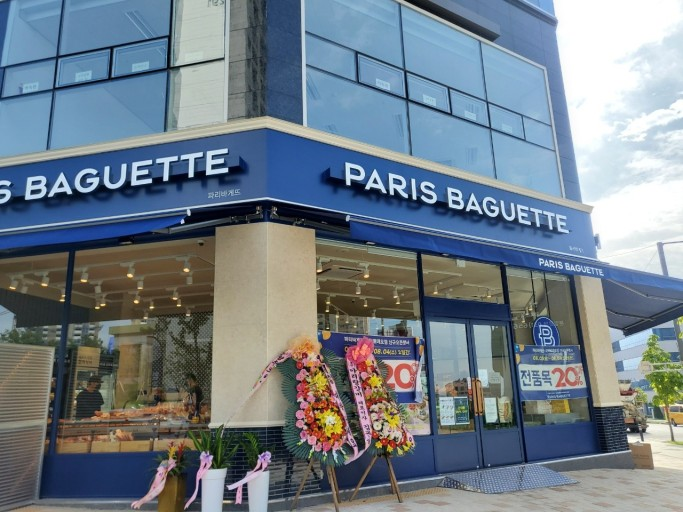Paris_baguette: (344, 162, 570, 235), (1, 147, 228, 206)
